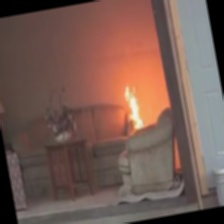fire: (112, 77, 151, 139)
